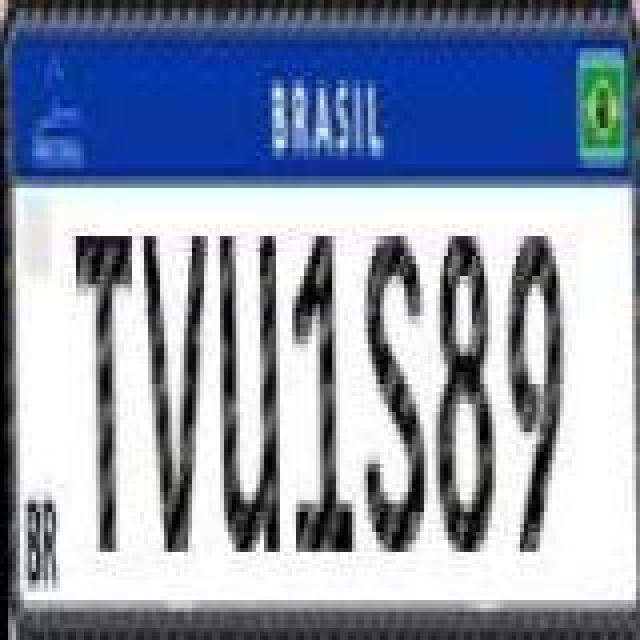1: (286, 224, 354, 560)
8: (426, 230, 494, 554)
9: (498, 230, 566, 554)
S: (358, 230, 426, 554)
T: (72, 230, 136, 554)
U: (214, 224, 282, 560)
V: (140, 224, 212, 560)
